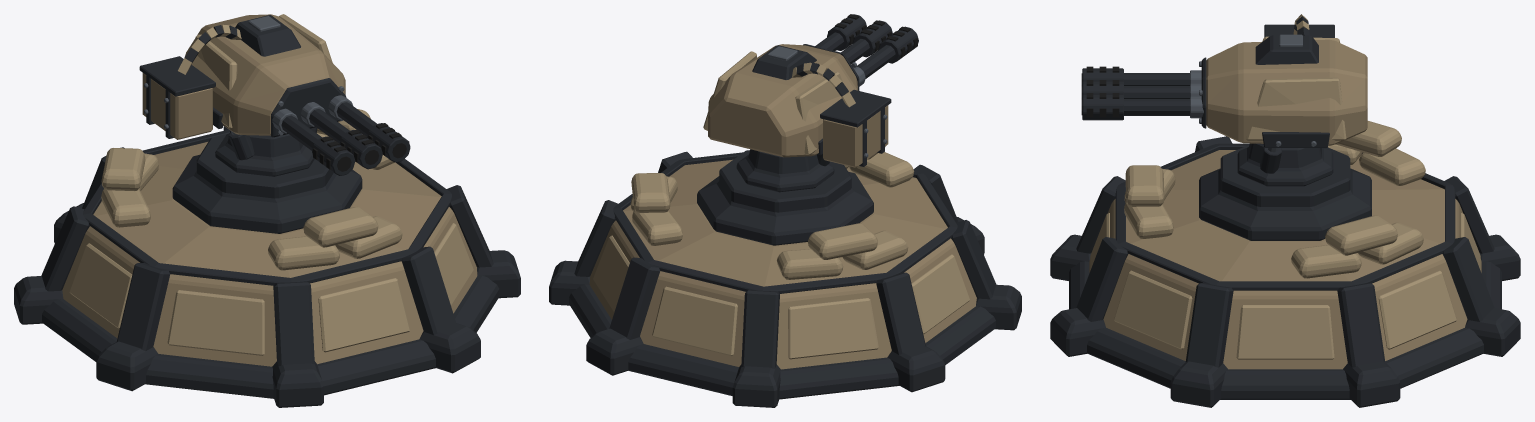
The picture shows the model from 3 angles, left to right: view 1: azimuth 30°, elevation 25°; view 2: azimuth 150°, elevation 25°; view 3: azimuth 270°, elevation 25°; orthographic projection. The views are drawn at different scales.
Visible parts, largest first — view 1: casco, gun_pitch, turret_yaw; view 2: casco, gun_pitch, turret_yaw; view 3: casco, gun_pitch, turret_yaw.
Boxes of the visible parts, left/top/right/bottom form: casco: left=14, top=109, right=520, bottom=407; gun_pitch: left=139, top=14, right=410, bottom=175; turret_yaw: left=215, top=127, right=317, bottom=176; casco: left=549, top=146, right=1021, bottom=407; gun_pitch: left=703, top=14, right=918, bottom=167; turret_yaw: left=736, top=149, right=834, bottom=192; casco: left=1050, top=121, right=1520, bottom=407; gun_pitch: left=1081, top=14, right=1367, bottom=147; turret_yaw: left=1237, top=143, right=1333, bottom=186.
Bounding box in the file's own units: 1 × 0.6396 × 1.
